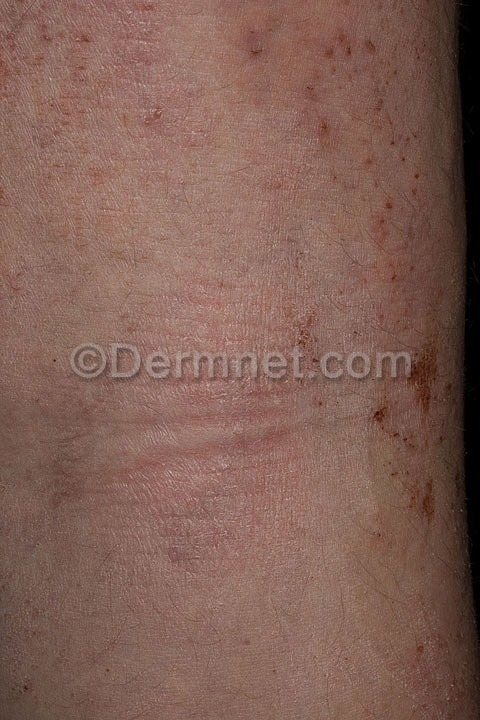Eczema: (2, 1, 465, 720)
